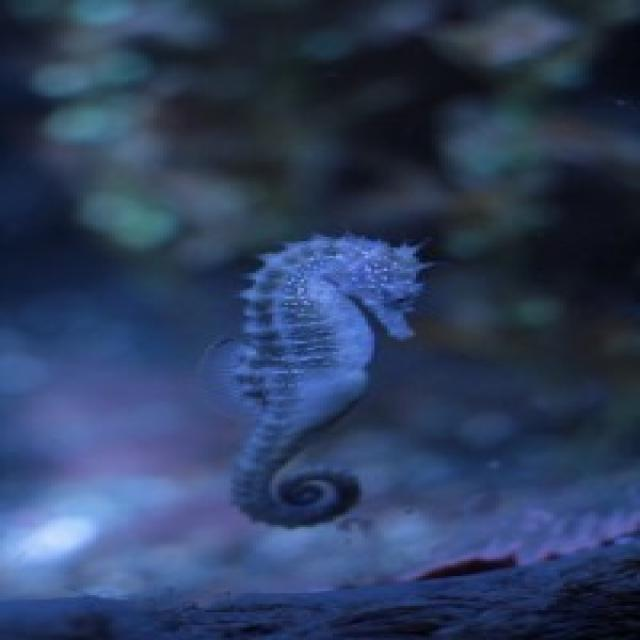Seahorse: (204, 224, 446, 537)
